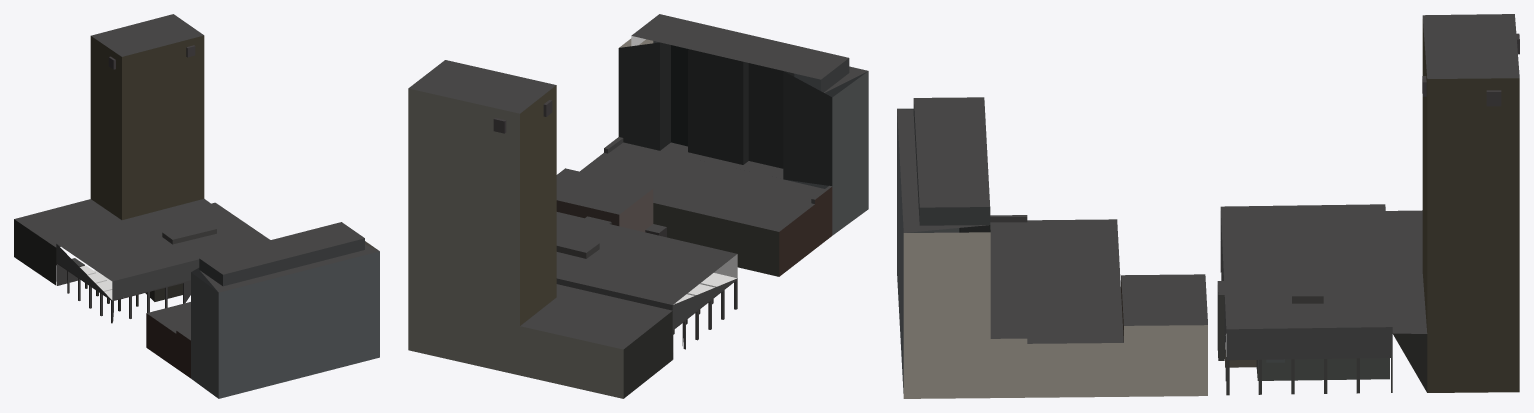
Rendered from 700-market-street.glb.
3 renders of one model, left to right at view 1: azimuth 30°, elevation 25°; view 2: azimuth 150°, elevation 25°; view 3: azimuth 270°, elevation 25°, orthographic. The views are drawn at different scales.
Visible parts, largest first — view 1: LOD0; view 2: LOD0; view 3: LOD0.
Part boxes in pixels (x1,y1,x2,y2): LOD0: (14,14,379,398); LOD0: (408,14,868,398); LOD0: (897,14,1519,398).
Size of what is drawn, in the model's own units: 63.36 by 71.08 by 128.
2 materials, 2 textured.
